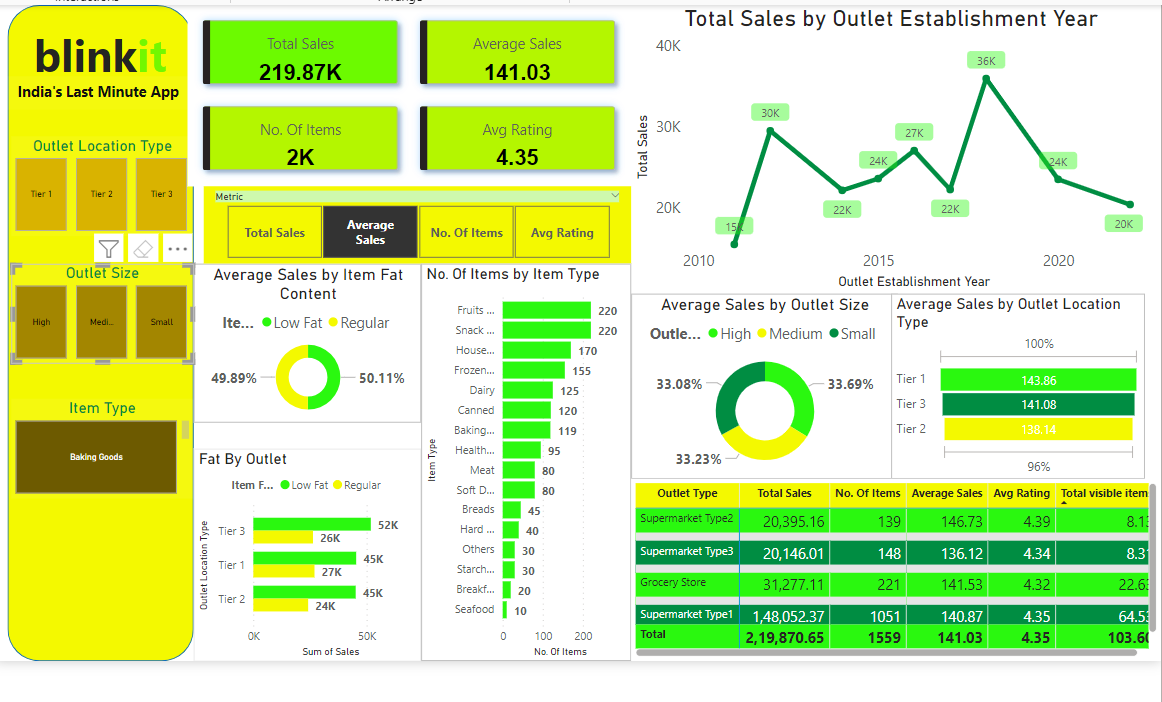

The dashboard page shown, as its layout file describes it:
{"tool":"powerbi","page":{"name":"Page 1","canvas":[1280,720],"ordinal":0},"visuals":[{"type":"shape","box":[13.7,0,204.5,720.4],"z":0},{"type":"textbox","box":[30.2,16.5,170.2,74.1],"z":1000},{"type":"textbox","box":[11,78.2,204.5,37],"z":2000},{"type":"cardVisual","fields":{"Data":["BlinkIT Grocery Data.Total Sales","BlinkIT Grocery Data.Average Sales","BlinkIT Grocery Data.No. Of Items","BlinkIT Grocery Data.Avg Rating"]},"box":[211.3,0,487.1,199],"z":3000},{"type":"donutChart","fields":{"Y":["BlinkIT Grocery Data.Average Sales"],"Category":["BlinkIT Grocery Data.Item Fat Content"]},"box":[218.2,284,249.7,174.3],"z":4000},{"type":"slicer","fields":{"Values":["Metric.Metric"]},"box":[229.2,199,469.3,85.1],"z":5000},{"type":"clusteredBarChart","title":"Fat By Outlet","fields":{"Y":["Sum(BlinkIT Grocery Data.Sales)"],"Category":["BlinkIT Grocery Data.Outlet Location Type"],"Series":["BlinkIT Grocery Data.Item Fat Content"]},"box":[218.2,487.1,249.7,233.3],"z":6000},{"type":"clusteredBarChart","fields":{"Y":["BlinkIT Grocery Data.No. Of Items"],"Category":["BlinkIT Grocery Data.Item Type"]},"box":[467.9,284,230.5,436.4],"z":7000},{"type":"lineChart","fields":{"Y":["BlinkIT Grocery Data.Total Sales"],"Category":["BlinkIT Grocery Data.Outlet Establishment Year"]},"box":[698.5,0,570.8,317],"z":8000},{"type":"donutChart","fields":{"Y":["BlinkIT Grocery Data.Average Sales"],"Category":["BlinkIT Grocery Data.Outlet Size"]},"box":[698.5,317,292.3,203.1],"z":9000},{"type":"funnel","fields":{"Y":["BlinkIT Grocery Data.Average Sales"],"Category":["BlinkIT Grocery Data.Outlet Location Type"]},"box":[983.9,317,278.6,203.1],"z":10000},{"type":"pivotTable","fields":{"Values":["BlinkIT Grocery Data.Total Sales","BlinkIT Grocery Data.No. Of Items","BlinkIT Grocery Data.Average Sales","BlinkIT Grocery Data.Avg Rating","Sum(BlinkIT Grocery Data.Item Visibility)"],"Rows":["BlinkIT Grocery Data.Outlet Type"]},"box":[698.5,520.1,581.8,200.3],"z":11000},{"type":"advancedSlicerVisual","fields":{"Values":["BlinkIT Grocery Data.Outlet Size"]},"box":[17.8,284,200.3,109.8],"z":12000},{"type":"advancedSlicerVisual","fields":{"Values":["BlinkIT Grocery Data.Outlet Location Type"]},"box":[17.8,144.1,200.3,109.8],"z":13000},{"type":"advancedSlicerVisual","fields":{"Values":["BlinkIT Grocery Data.Item Type"]},"box":[17.8,432.2,200.3,109.8],"z":13001}]}

Visuals, with their boxes on the page's 1280x720 design canvas (x1, y1, x2, y2). These are canvas units, not pixel positions in the 1162x702 screenshot, which may show the page scaled, cropped or inside an application window:
shape: detection(14, 0, 218, 720)
textbox: detection(30, 16, 200, 91)
textbox: detection(11, 78, 216, 115)
cardVisual - BlinkIT Grocery Data.Total Sales x BlinkIT Grocery Data.Average Sales: detection(211, 0, 698, 199)
donutChart - BlinkIT Grocery Data.Average Sales x BlinkIT Grocery Data.Item Fat Content: detection(218, 284, 468, 458)
slicer - Metric.Metric: detection(229, 199, 698, 284)
"Fat By Outlet" clusteredBarChart: detection(218, 487, 468, 720)
clusteredBarChart - BlinkIT Grocery Data.No. Of Items x BlinkIT Grocery Data.Item Type: detection(468, 284, 698, 720)
lineChart - BlinkIT Grocery Data.Total Sales x BlinkIT Grocery Data.Outlet Establishment Year: detection(698, 0, 1269, 317)
donutChart - BlinkIT Grocery Data.Average Sales x BlinkIT Grocery Data.Outlet Size: detection(698, 317, 991, 520)
funnel - BlinkIT Grocery Data.Average Sales x BlinkIT Grocery Data.Outlet Location Type: detection(984, 317, 1262, 520)
pivotTable - BlinkIT Grocery Data.Total Sales x BlinkIT Grocery Data.No. Of Items: detection(698, 520, 1280, 720)
advancedSlicerVisual - BlinkIT Grocery Data.Outlet Size: detection(18, 284, 218, 394)
advancedSlicerVisual - BlinkIT Grocery Data.Outlet Location Type: detection(18, 144, 218, 254)
advancedSlicerVisual - BlinkIT Grocery Data.Item Type: detection(18, 432, 218, 542)
